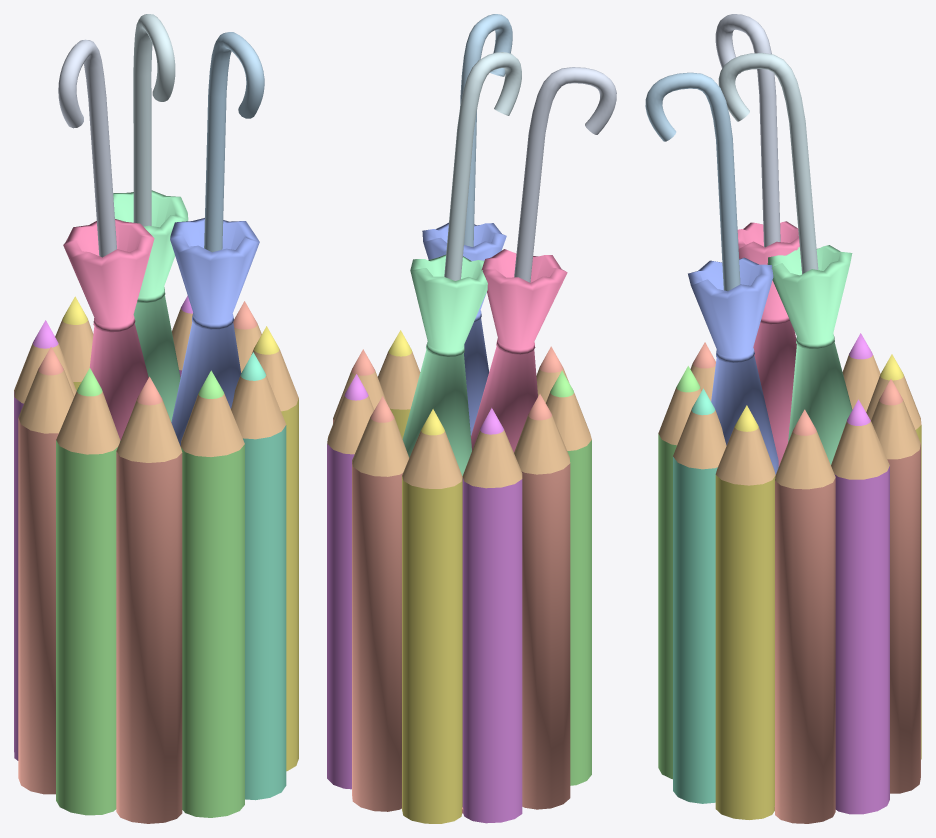
File: sateenvarjoja1.fbx
3 renders of one model, left to right at view 1: azimuth 30°, elevation 25°; view 2: azimuth 150°, elevation 25°; view 3: azimuth 270°, elevation 25°, orthographic. The views are drawn at different scales.
Parts seen in each view (by area): view 1: pens, umbrella1, umbrella3, umbrella2; view 2: pens, umbrella2, umbrella3, umbrella1; view 3: pens, umbrella2, umbrella1, umbrella3.
Part boxes in pixels (x1,y1,x2,y2): pens: (14,295,298,823); umbrella1: (170,32,264,445); umbrella3: (58,39,154,440); umbrella2: (113,14,188,421); pens: (327,330,591,823); umbrella2: (402,52,521,475); umbrella3: (471,67,616,452); umbrella1: (422,14,512,435); pens: (658,333,921,823); umbrella2: (718,53,852,464); umbrella1: (645,72,778,474); umbrella3: (715,14,799,466).
Size of the model in its own units: 0.6604 by 1.88 by 0.6647.
